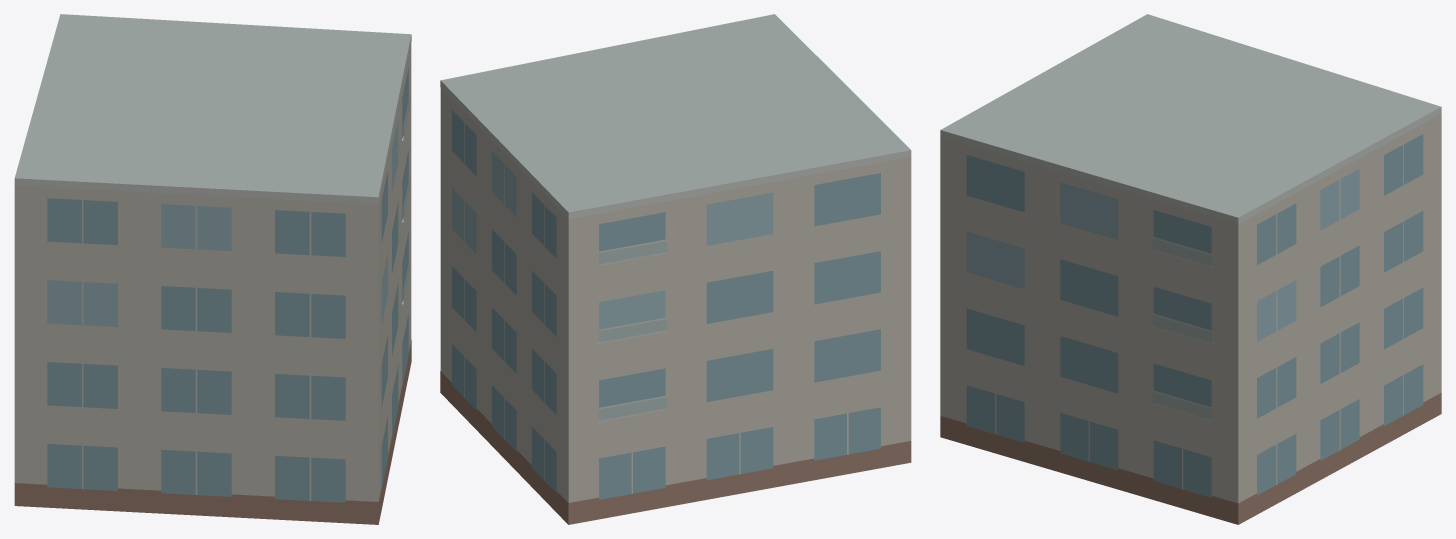
File: survey-upis-32986046.glb
3 views of the same model, side by side, from view 1: azimuth 30°, elevation 25°; view 2: azimuth 150°, elevation 25°; view 3: azimuth 270°, elevation 25° (orthographic). The views are drawn at different scales.
Parts seen in each view (by area): view 1: survey-upis-32986046.tmp; view 2: survey-upis-32986046.tmp; view 3: survey-upis-32986046.tmp.
Boxes of the visible parts, box(x1,y1,x2,y2) form: survey-upis-32986046.tmp: box(14, 14, 411, 524); survey-upis-32986046.tmp: box(440, 14, 911, 524); survey-upis-32986046.tmp: box(940, 14, 1441, 524).
Size of the model in its own units: 15.95 by 11.21 by 16.59.
